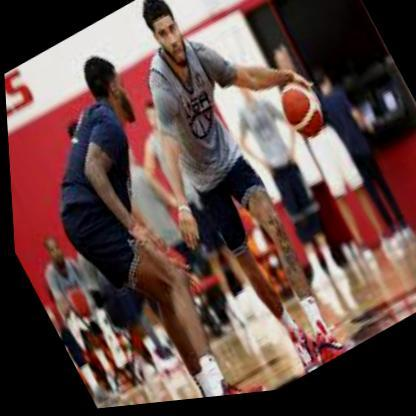basketball: (271, 79, 331, 152)
